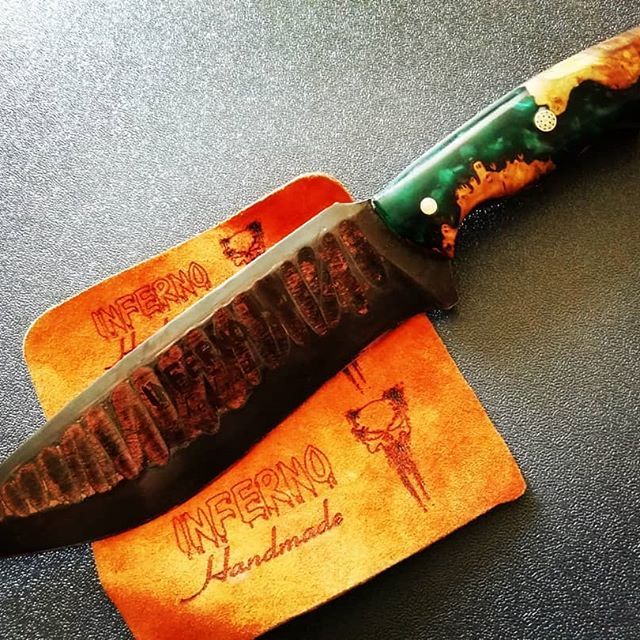knife: (1, 25, 640, 564)
